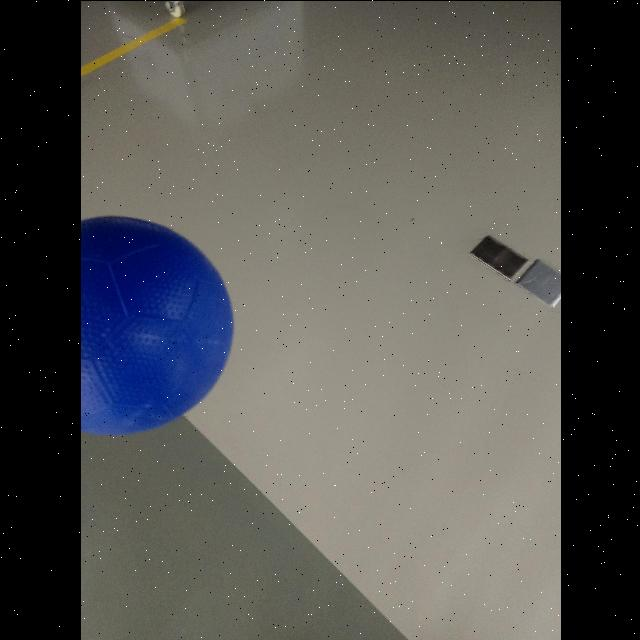B: (80, 213, 232, 439)
